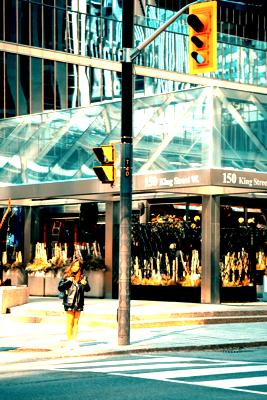International Road Signal Light: (186, 1, 217, 75), (92, 143, 117, 186)
